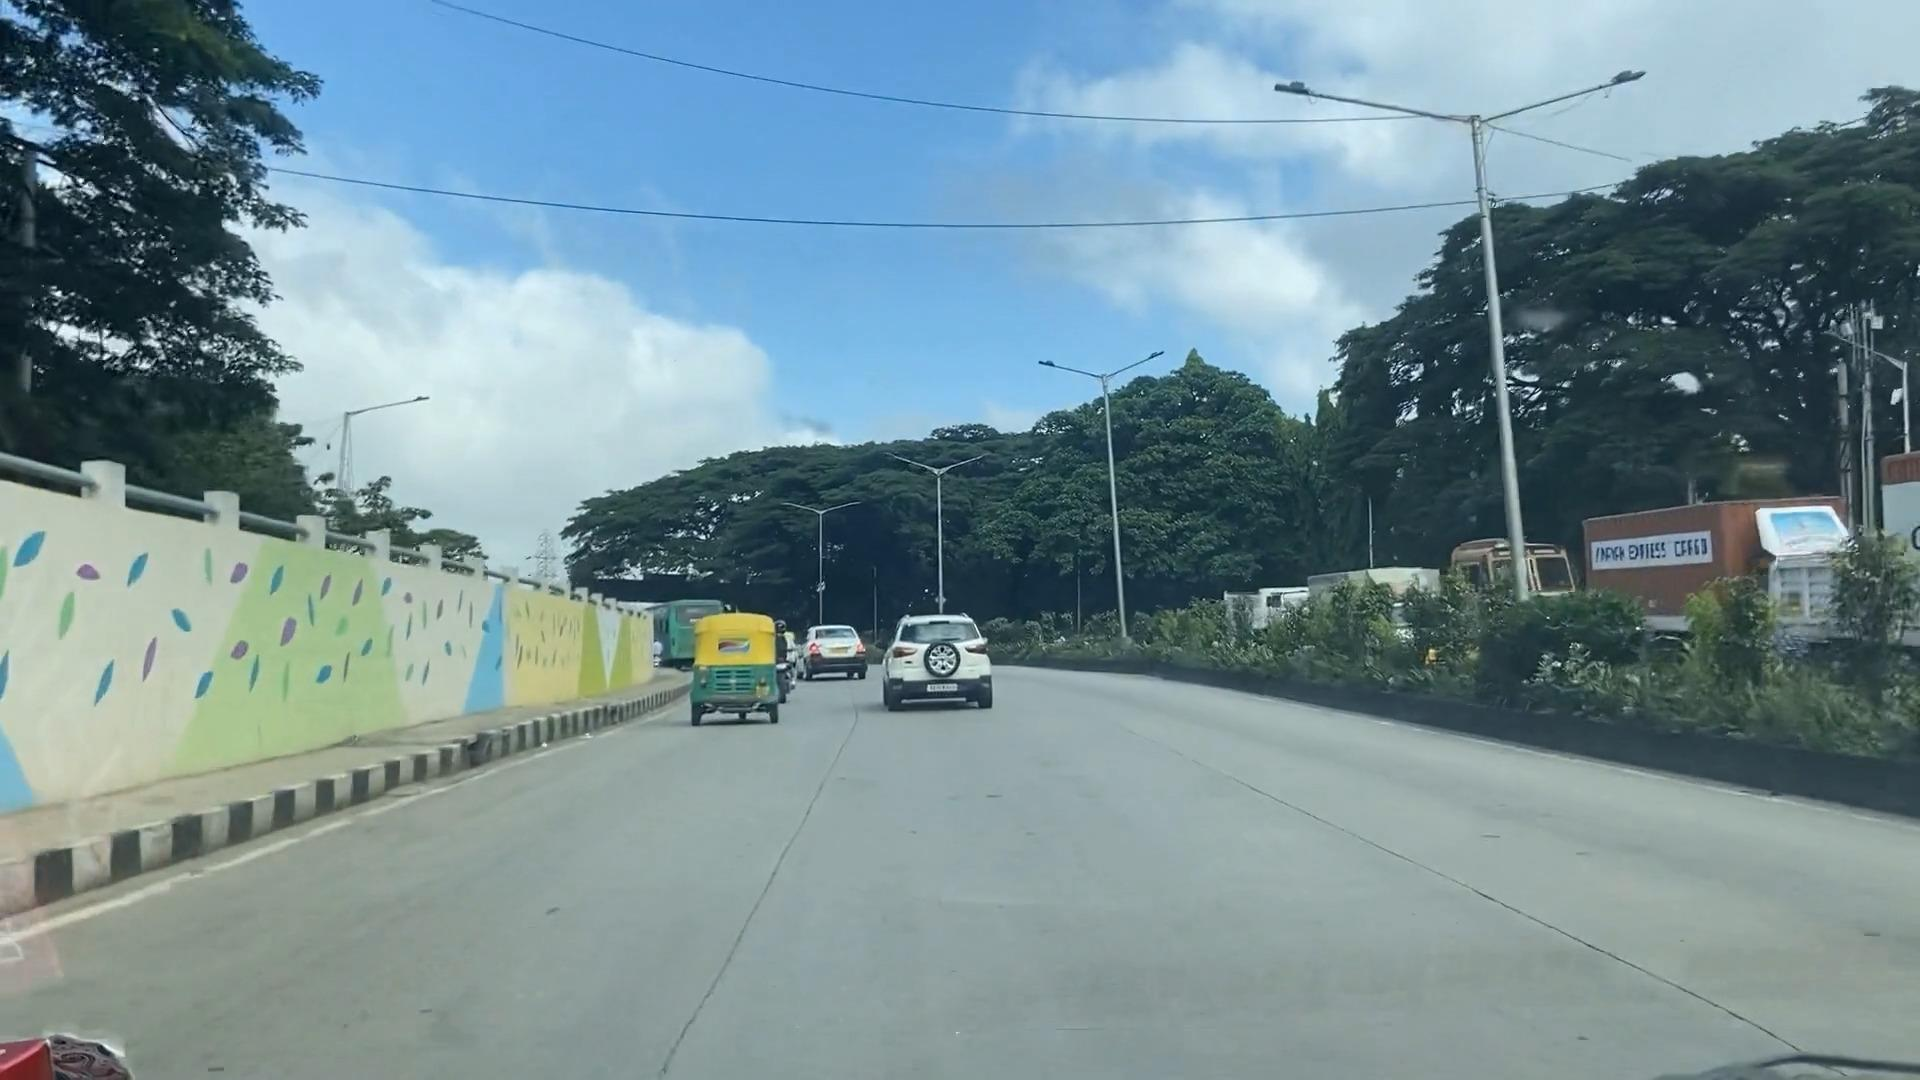LMV: (699, 625, 794, 711), (890, 620, 984, 696)
